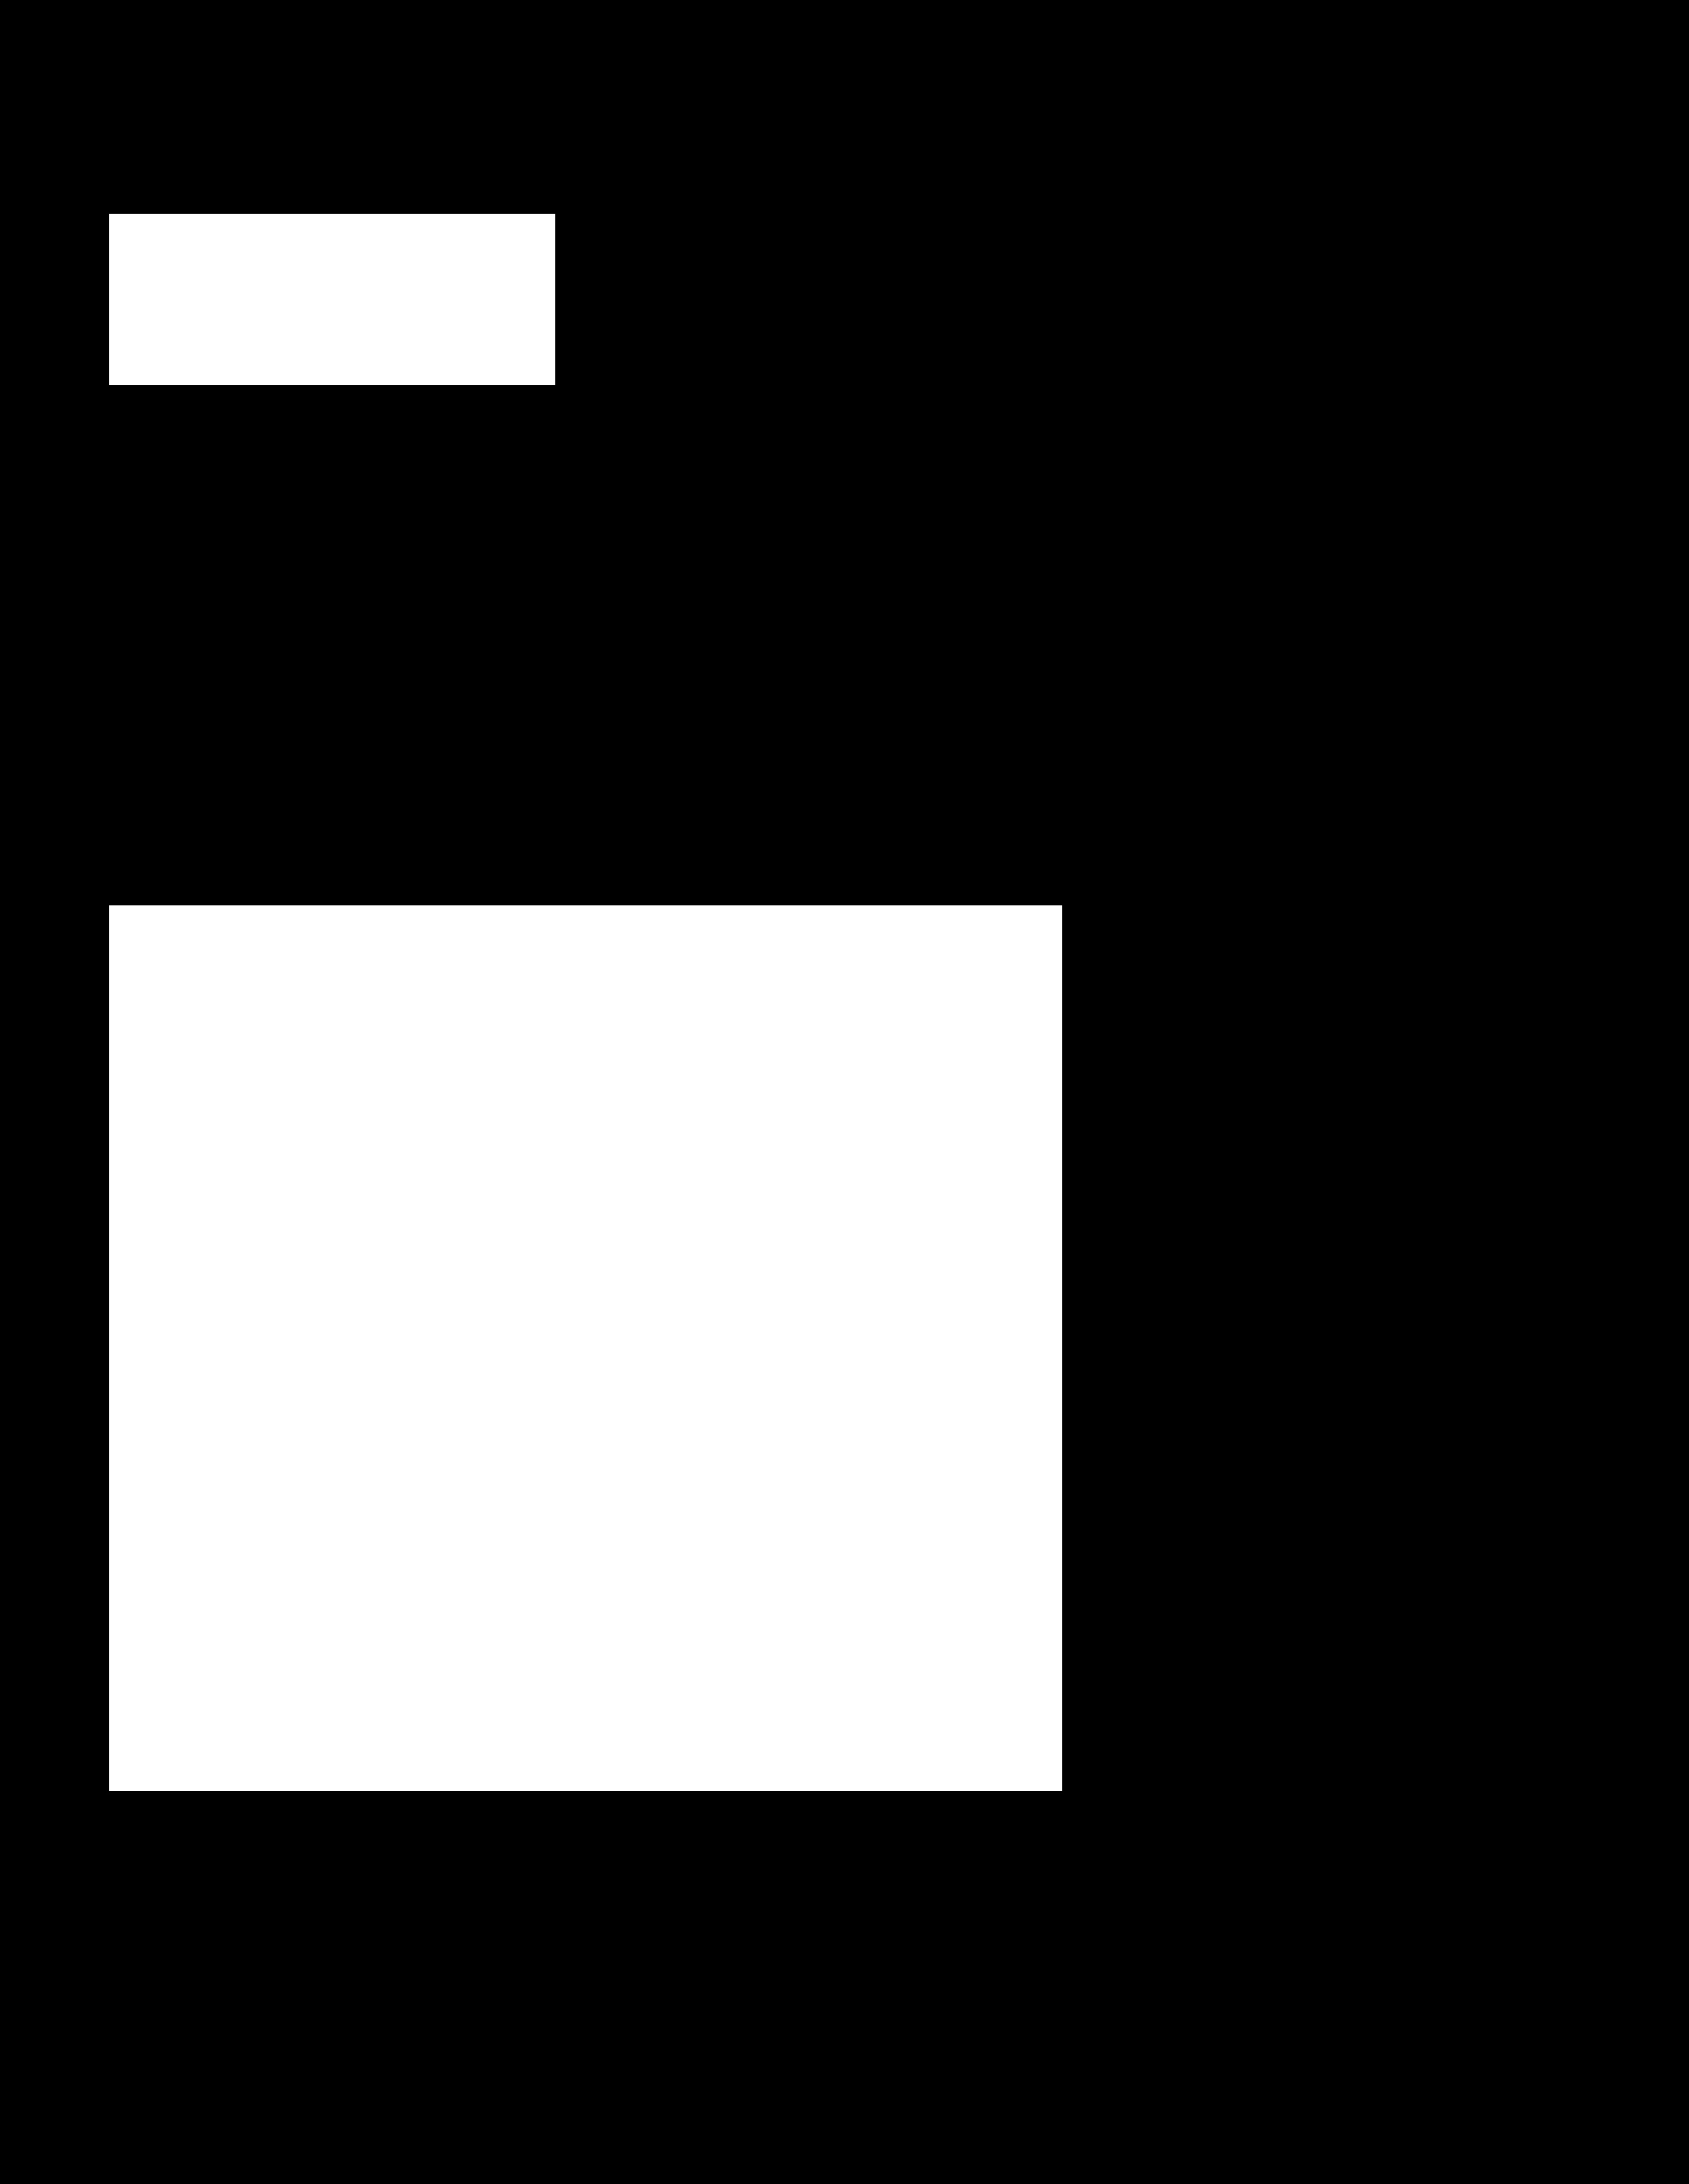table: (110, 906, 1062, 1790), (110, 214, 555, 385)
